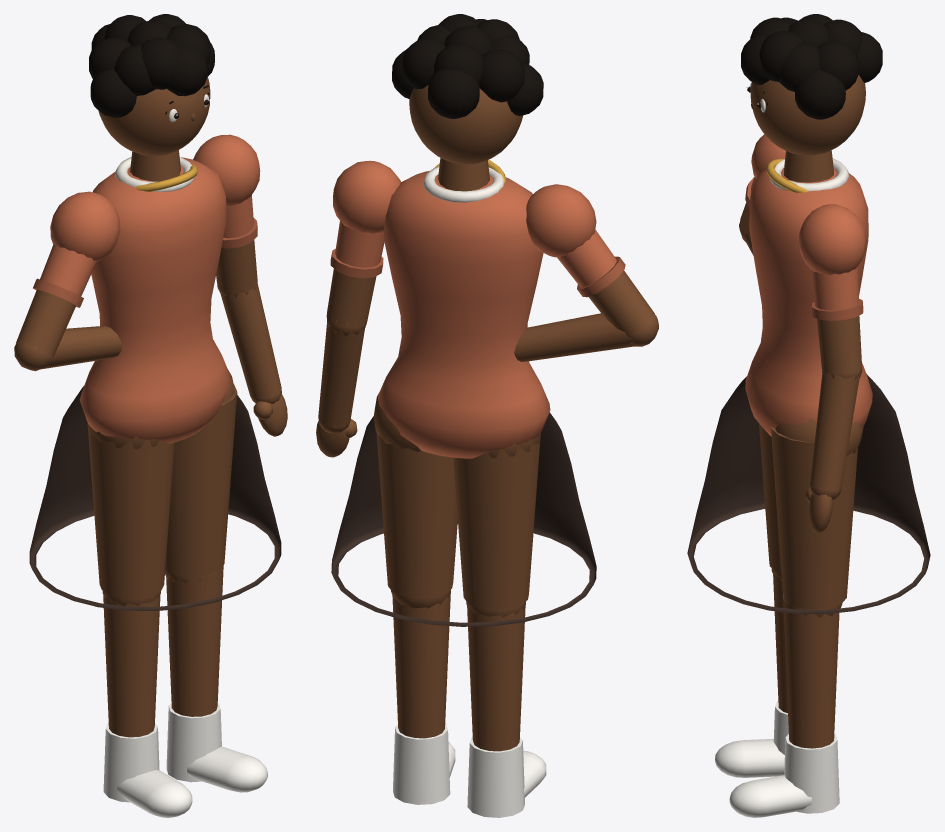
File: 08-helena.glb
3 views of the same model, side by side, from view 1: azimuth 30°, elevation 25°; view 2: azimuth 150°, elevation 25°; view 3: azimuth 270°, elevation 25° (orthographic).
Visible parts, largest first — view 1: Helena, skull, armR, elbow (×2), armL; view 2: Helena, skull, elbow (×2), armR, armL; view 3: Helena, skull, armL, elbow, armR.
Part boxes in pixels (box(x1,y1,x2,y2)): Helena: box(29, 150, 281, 817); skull: box(89, 14, 214, 155); armR: box(16, 191, 120, 357); elbow (×2): box(14, 278, 287, 436); armL: box(193, 134, 260, 293); Helena: box(331, 158, 596, 817); skull: box(392, 14, 543, 164); elbow (×2): box(316, 313, 658, 457); armR: box(526, 184, 654, 337); armL: box(326, 160, 401, 327); Helena: box(687, 150, 930, 817); skull: box(741, 14, 882, 155); armL: box(798, 204, 866, 373); elbow: box(805, 363, 862, 532); armR: box(739, 134, 785, 236).
Size of the model in its own units: 0.709 by 1.72 by 0.4962.
